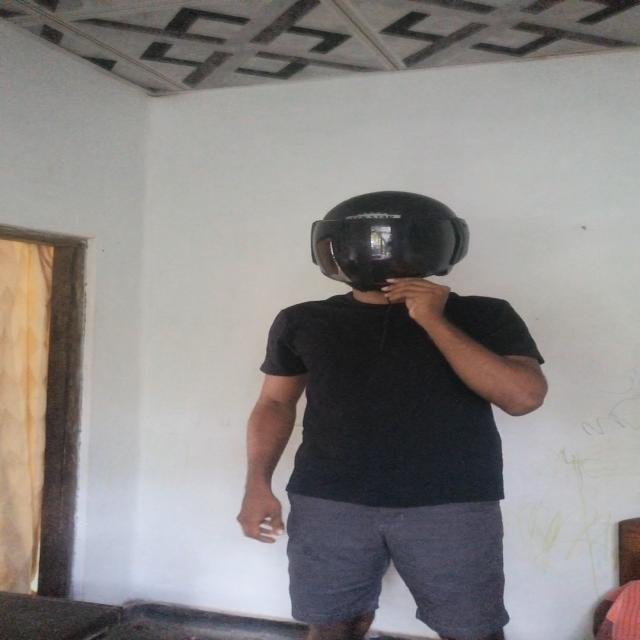Helmet_Wearer: (299, 188, 474, 314)
Person: (220, 186, 560, 640)
